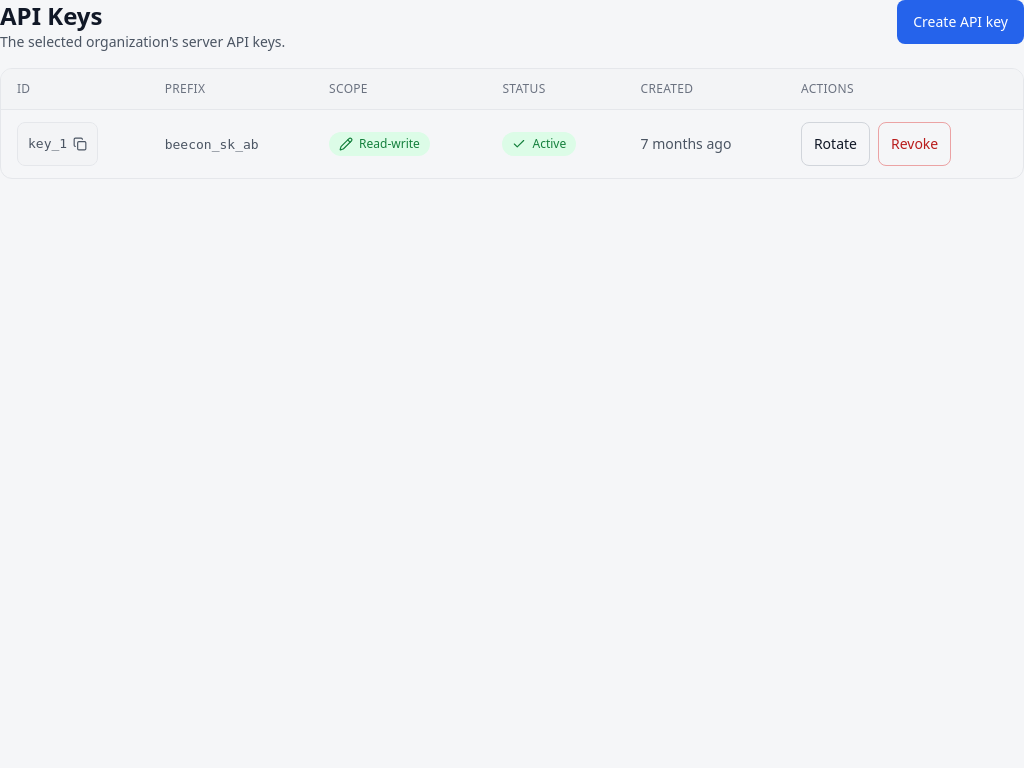
it: ApiKeysPage › rotating a key opens SecretOnceModal with the newly rotated secret
This screenshot has width=1024, height=768.
Click the button "Rotate" at (835, 144), box [801,122,870,166]
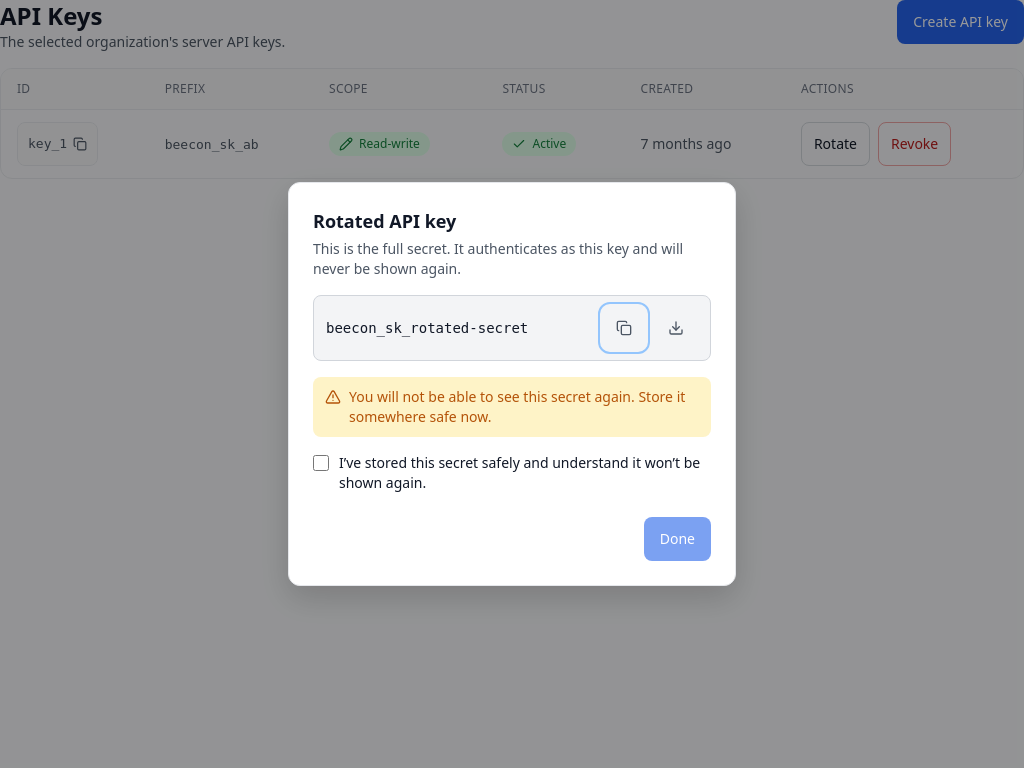
Expected: the text "beecon_sk_rotated-secret" is shown, [326,320,528,336]
